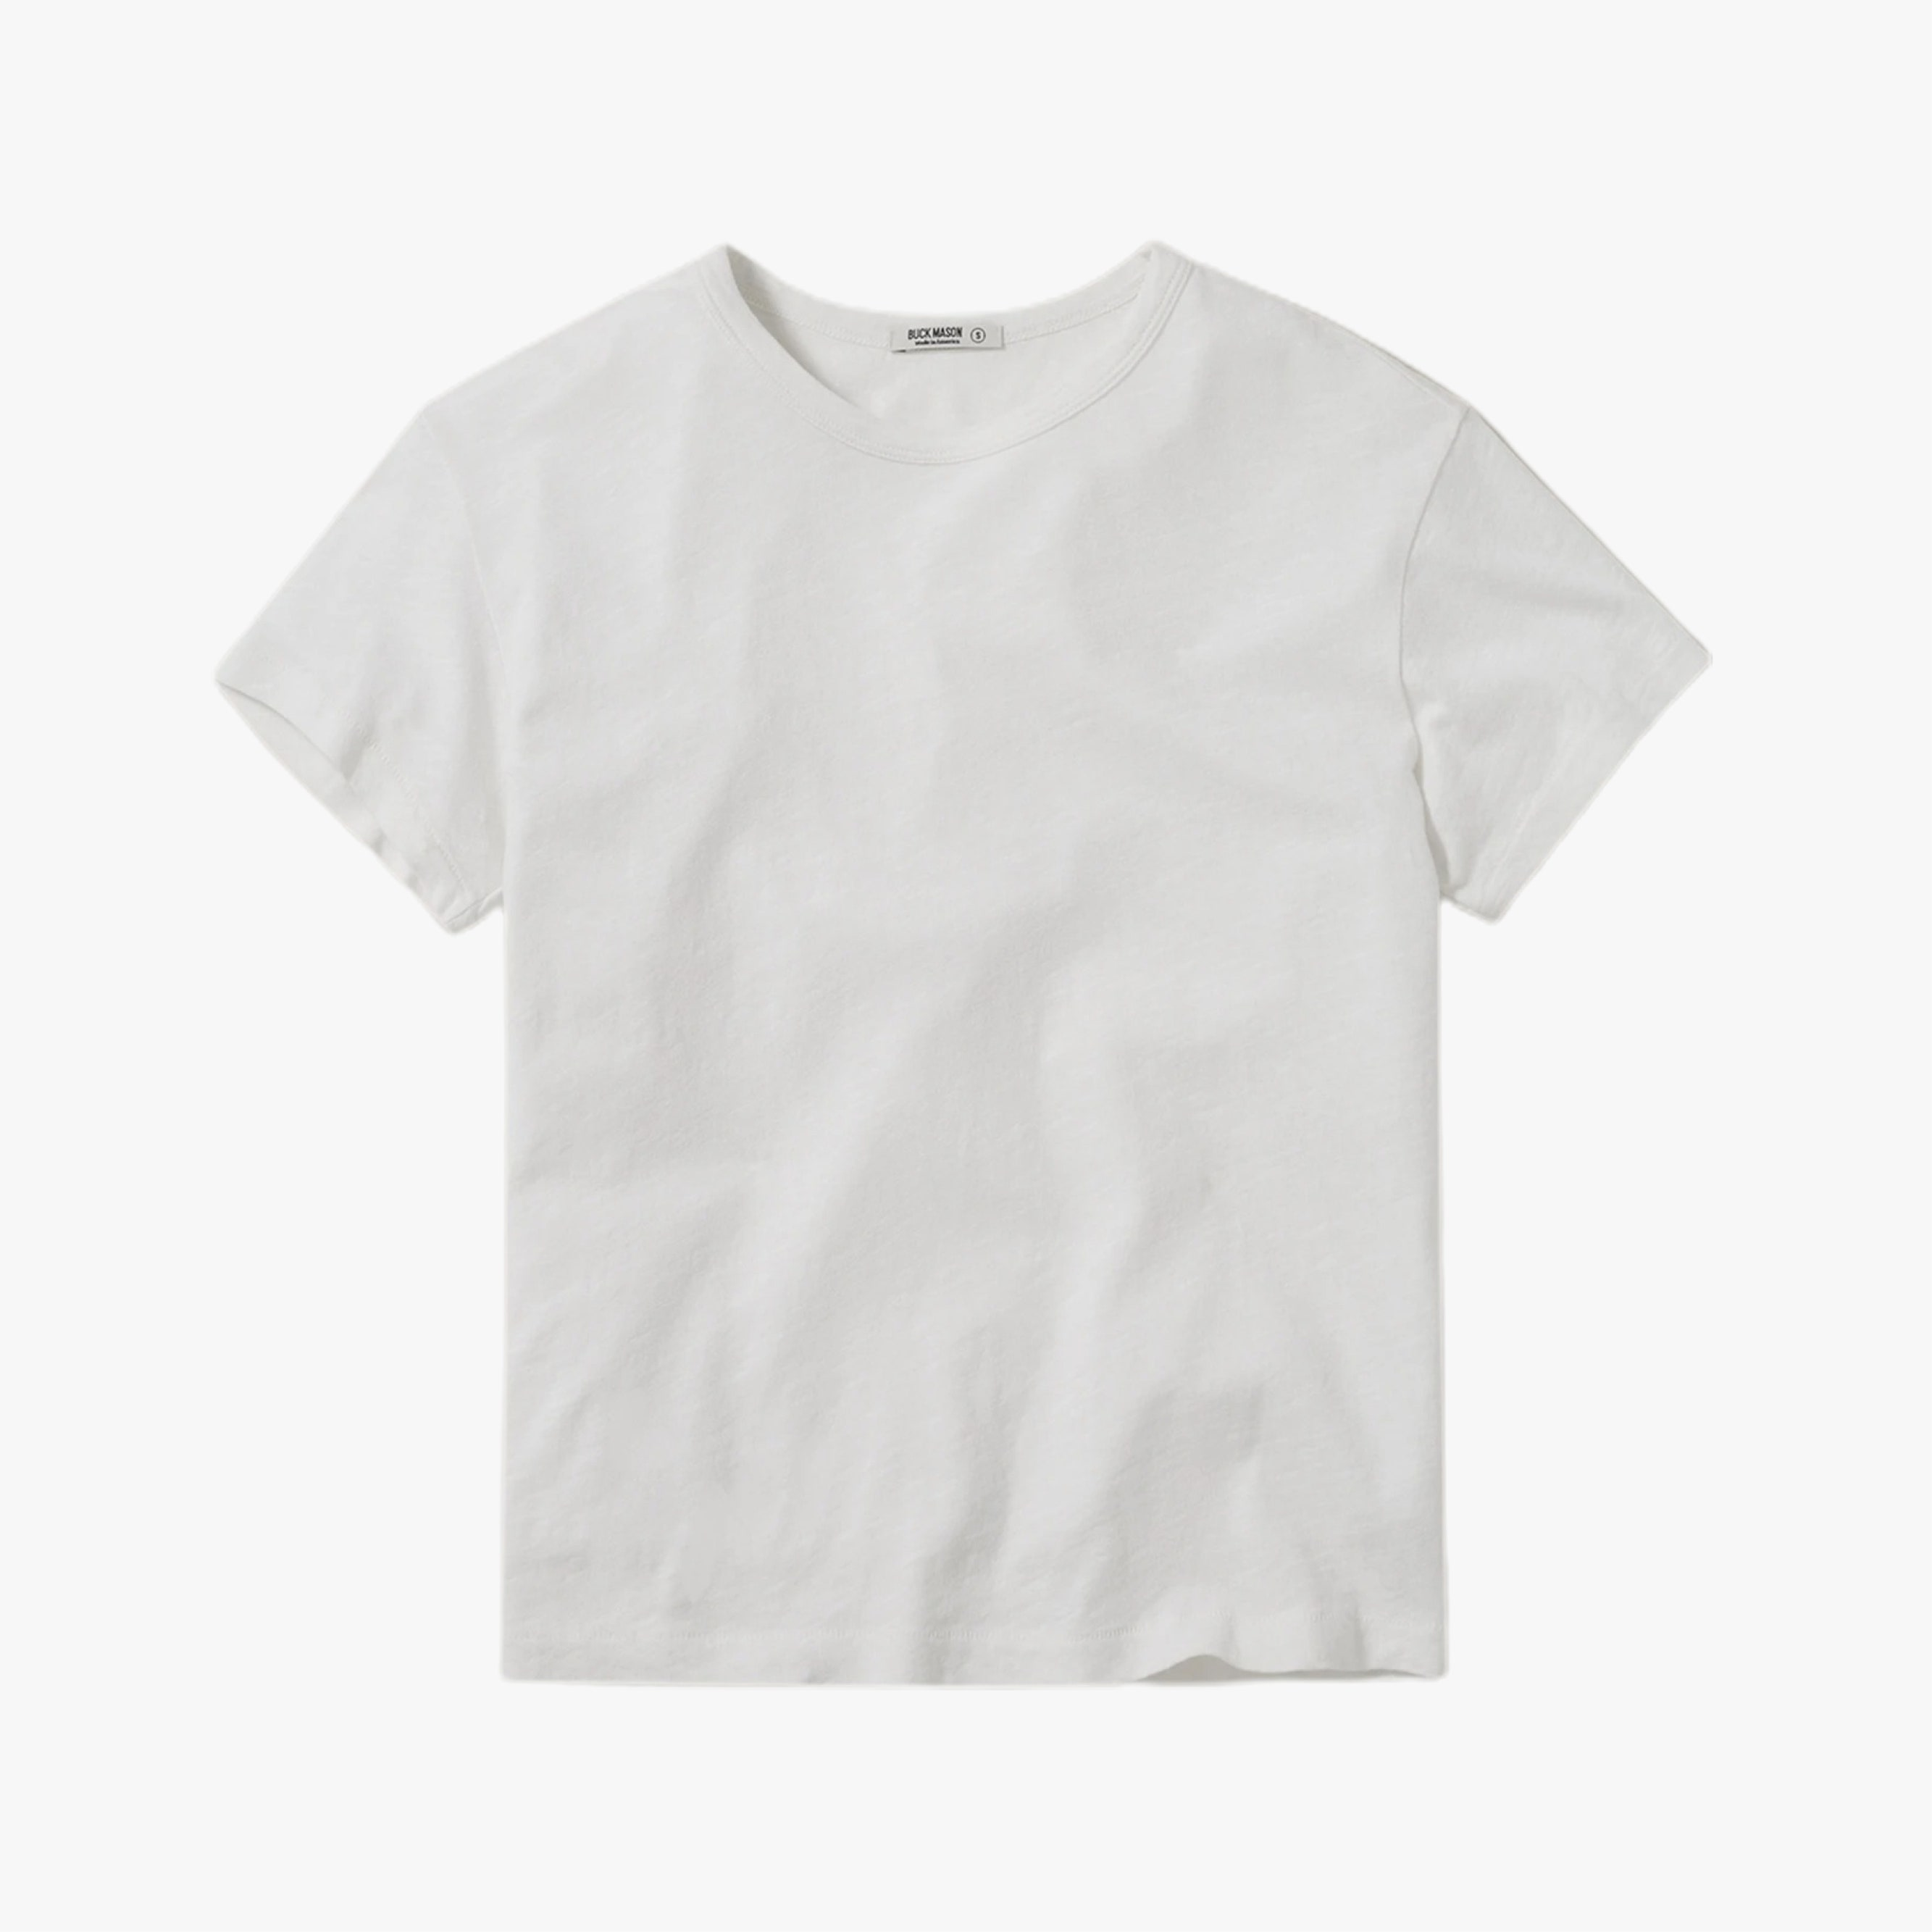round-necked tshirt: (219, 251, 1706, 1691)
